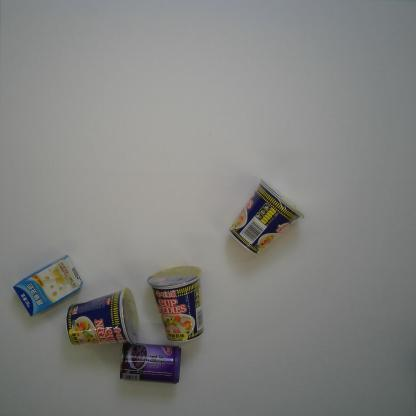Canned Food: (118, 342, 183, 387)
Instant Noodles: (228, 176, 307, 258), (146, 264, 206, 344), (65, 285, 140, 348)
Milk: (12, 253, 83, 318)
